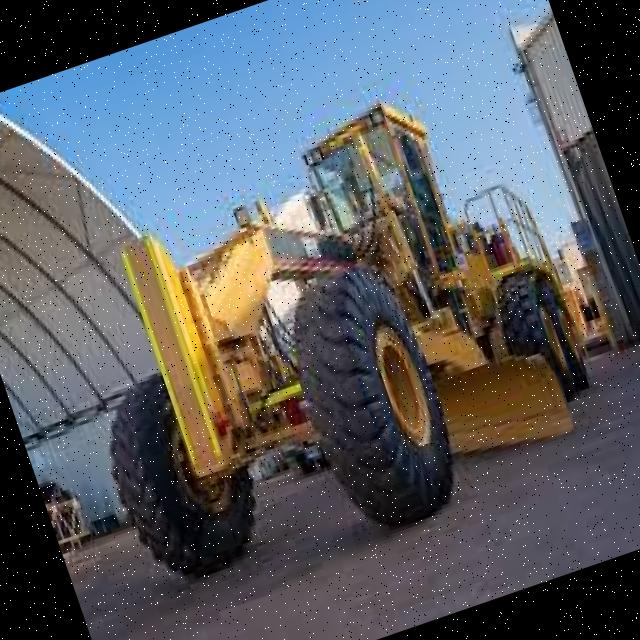Grader: (39, 35, 640, 626)
